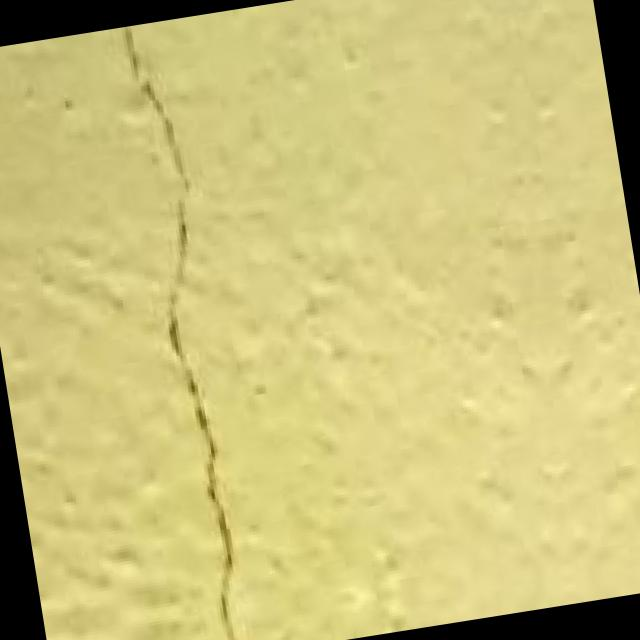crack: (80, 17, 287, 640)
